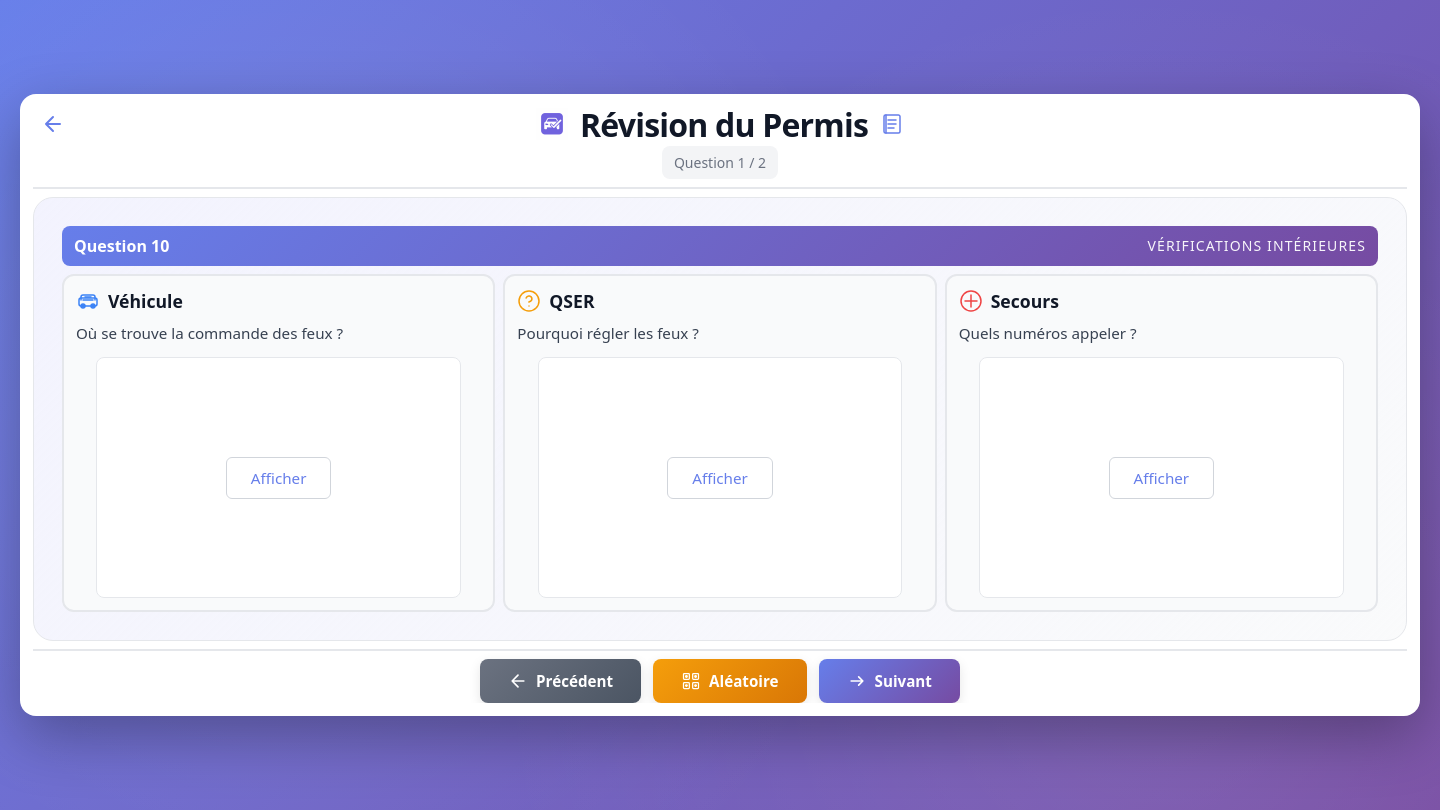
Test: Revision page › revient à la dernière question depuis la première
Click the button named "Question précédente". click: (561, 681)
box: [480, 659, 641, 703]
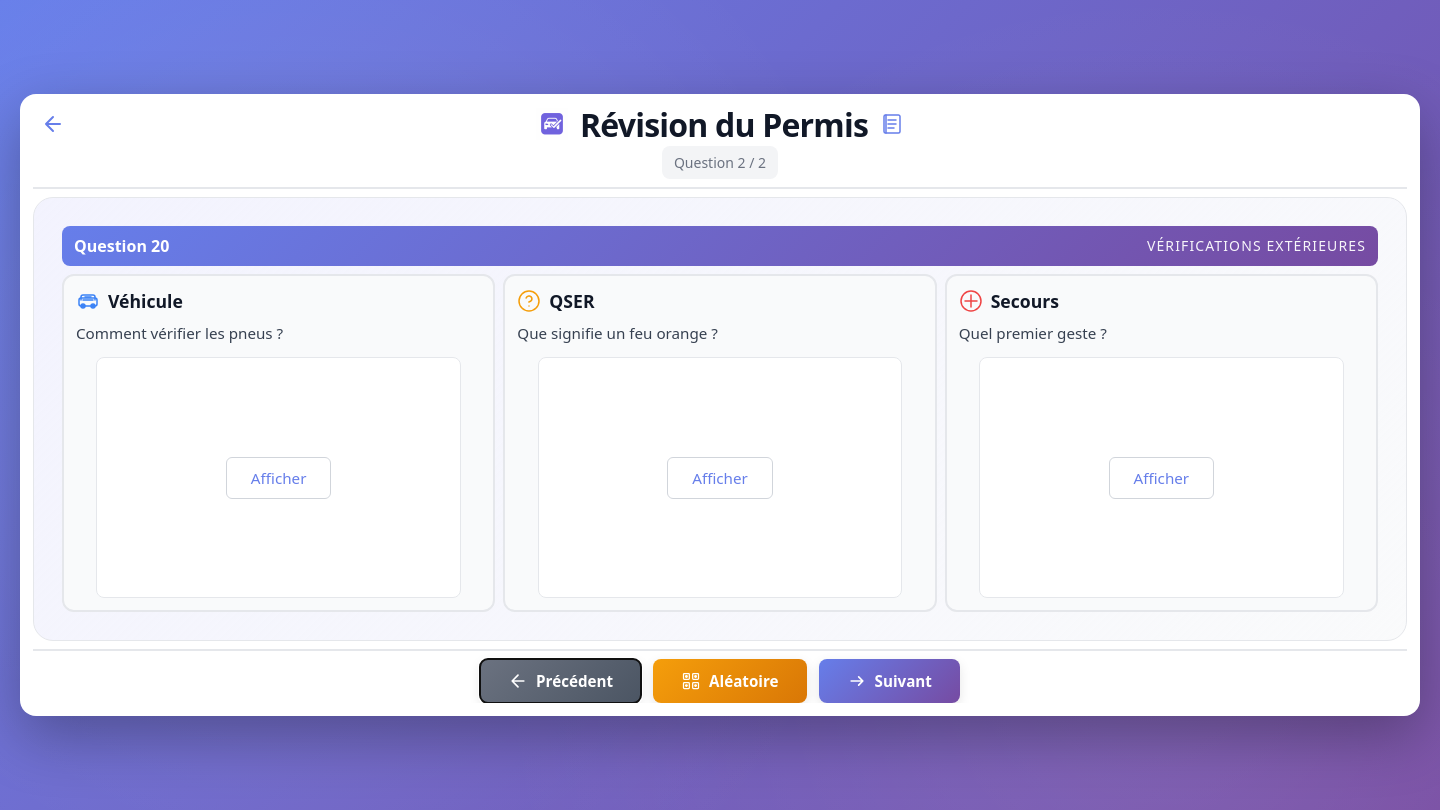
Now the text "Question 2 / 2" is shown, box [662, 146, 778, 179]
Now the text "Question 20" is shown, box [74, 234, 169, 258]
